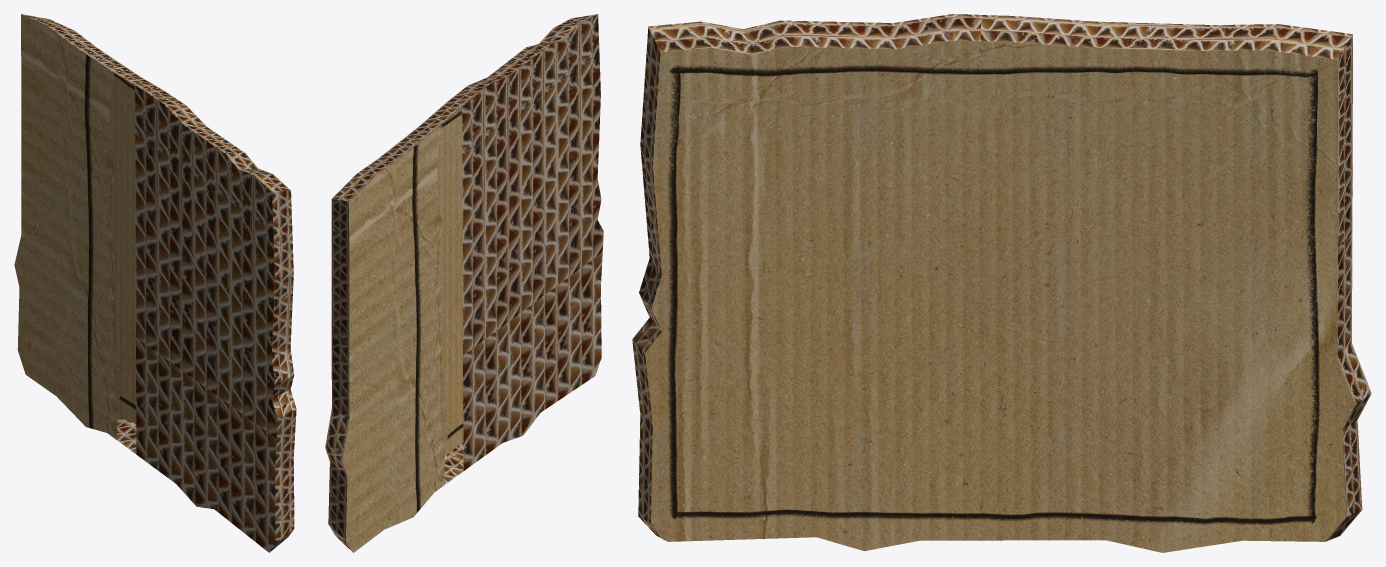
Rendered from Podloshka.fbx.
3 renders of one model, left to right at view 1: azimuth 30°, elevation 25°; view 2: azimuth 150°, elevation 25°; view 3: azimuth 270°, elevation 25°, orthographic. The views are drawn at different scales.
Visible parts, largest first — view 1: Plane.009; view 2: Plane.009; view 3: Plane.009.
Part boxes in pixels (left/top/right/bottom): Plane.009: left=14, top=14, right=296, bottom=552; Plane.009: left=325, top=14, right=603, bottom=552; Plane.009: left=632, top=14, right=1371, bottom=552.
Bounding box in the file's own units: 5.52 × 86.13 × 108.
1 material, 1 textured.
